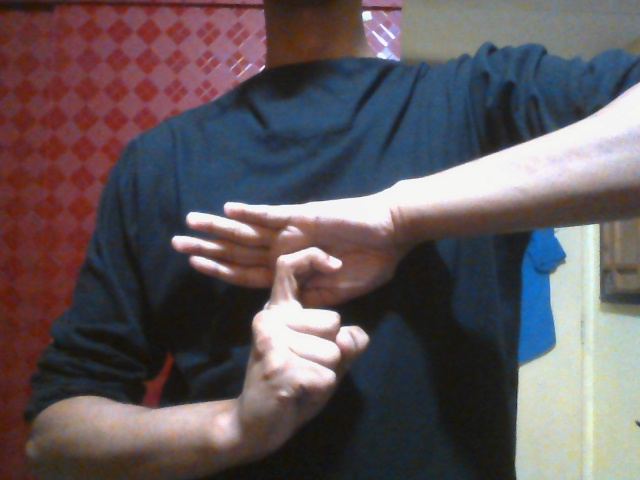R: (170, 195, 415, 445)
